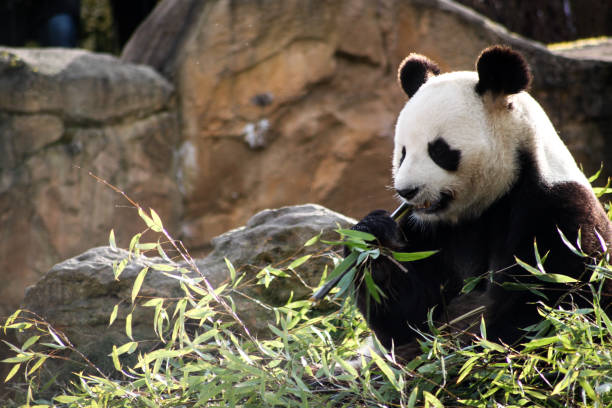panda: (371, 31, 579, 243)
